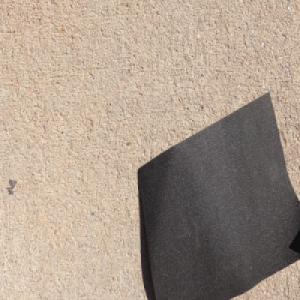PaintChip: (136, 89, 300, 300)
